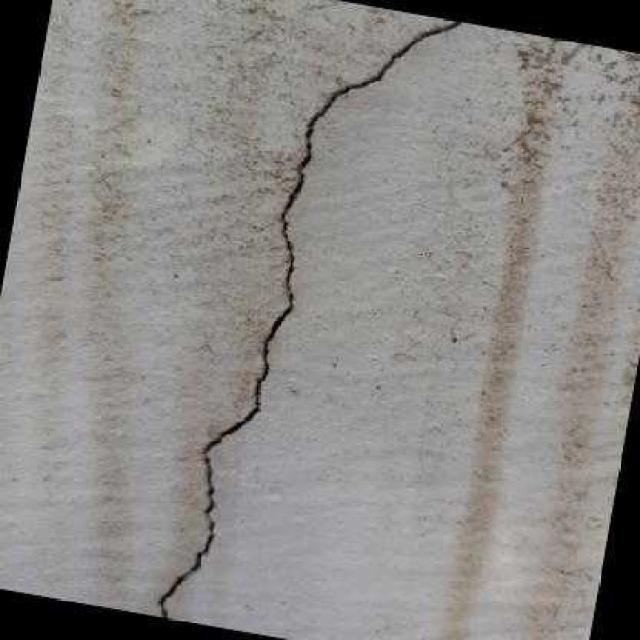D00: (151, 17, 469, 618)
